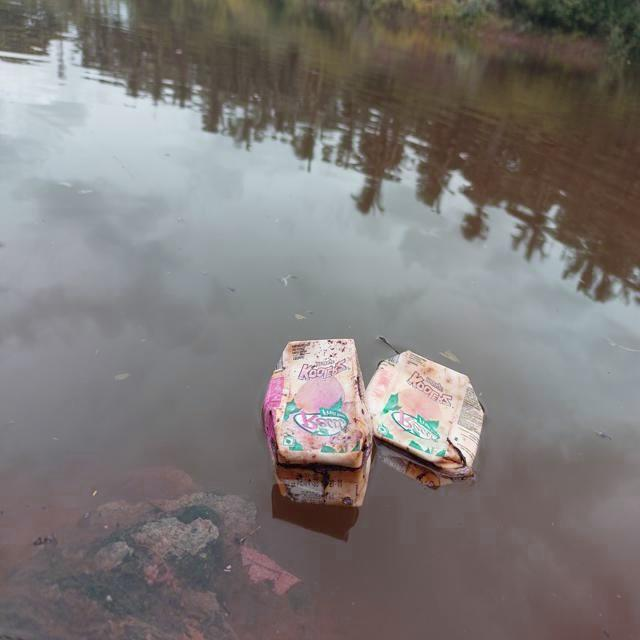Trash: (362, 349, 488, 487), (258, 333, 365, 486)
